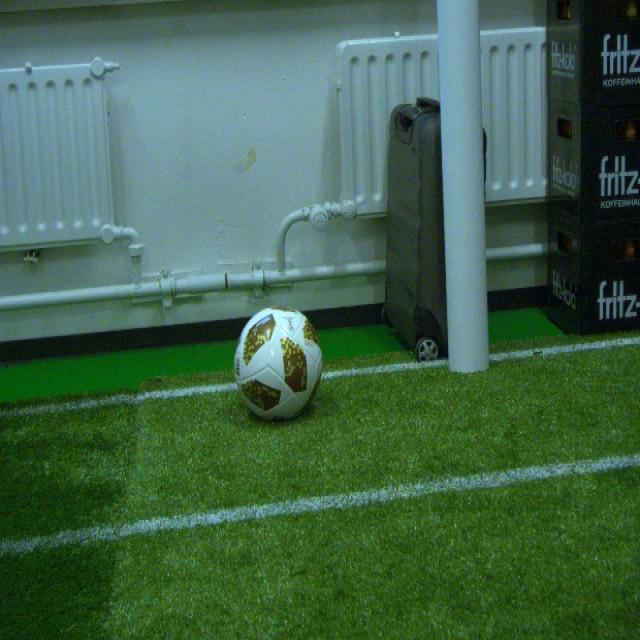ball: (231, 304, 325, 419)
goalpost: (438, 0, 493, 375)
